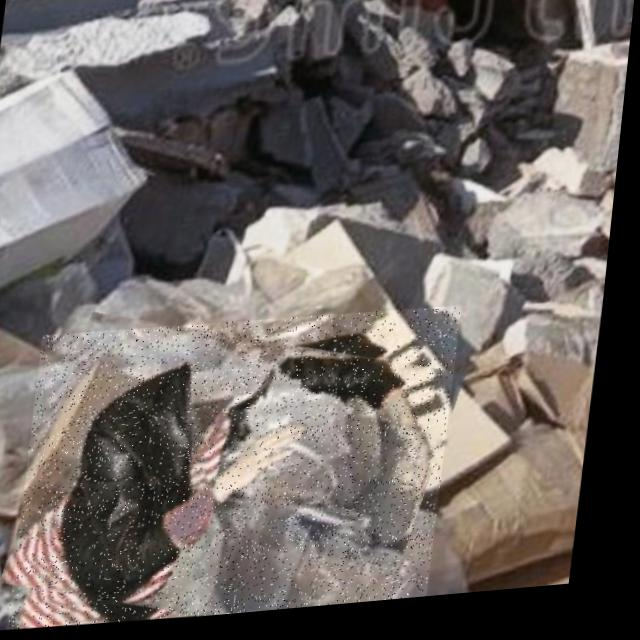Person in Rubble: (20, 307, 469, 635)
